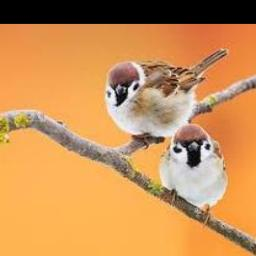Sparrow: (106, 49, 229, 150), (159, 123, 228, 227)
